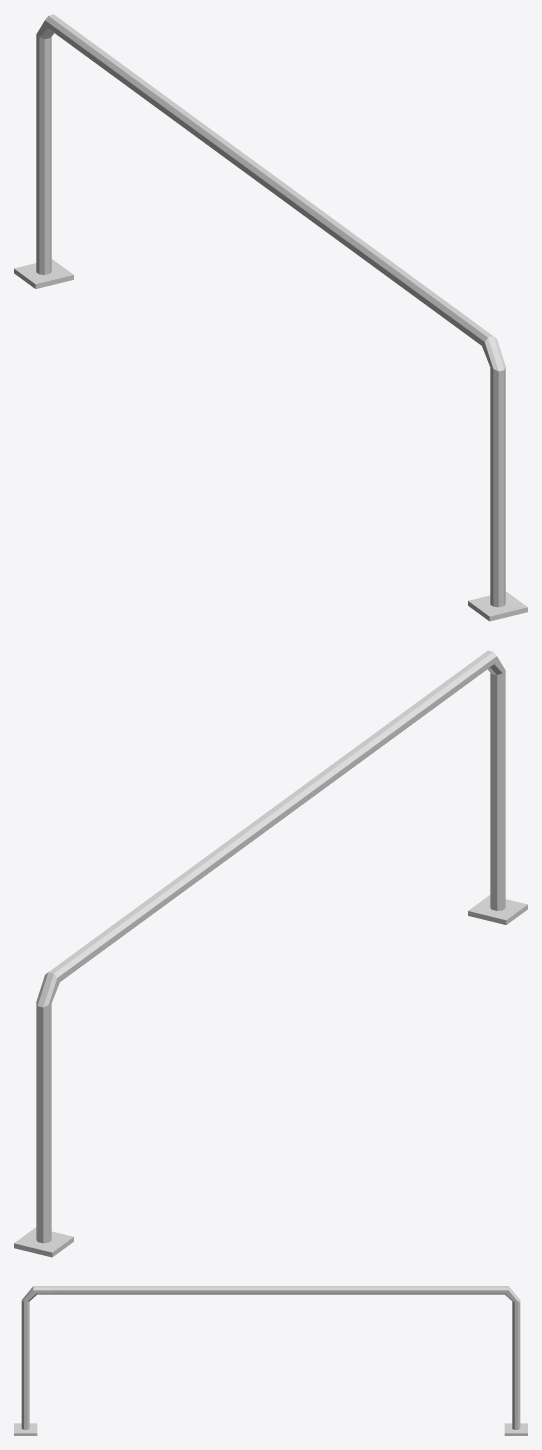
File: Grind.glb
The picture shows the model from 3 angles, top to bottom: view 1: azimuth 30°, elevation 25°; view 2: azimuth 150°, elevation 25°; view 3: azimuth 270°, elevation 25°; orthographic projection. The views are drawn at different scales.
Visible parts, largest first — view 1: Cube; view 2: Cube; view 3: Cube.
Part boxes in pixels (box(x1,y1,x2,y2)): Cube: box(14, 14, 527, 621); Cube: box(14, 650, 527, 1257); Cube: box(14, 1286, 527, 1435).
Bounding box in the file's own units: 0.3072 × 2.04 × 6.6.
Materials: 1 (1 with a texture image).
